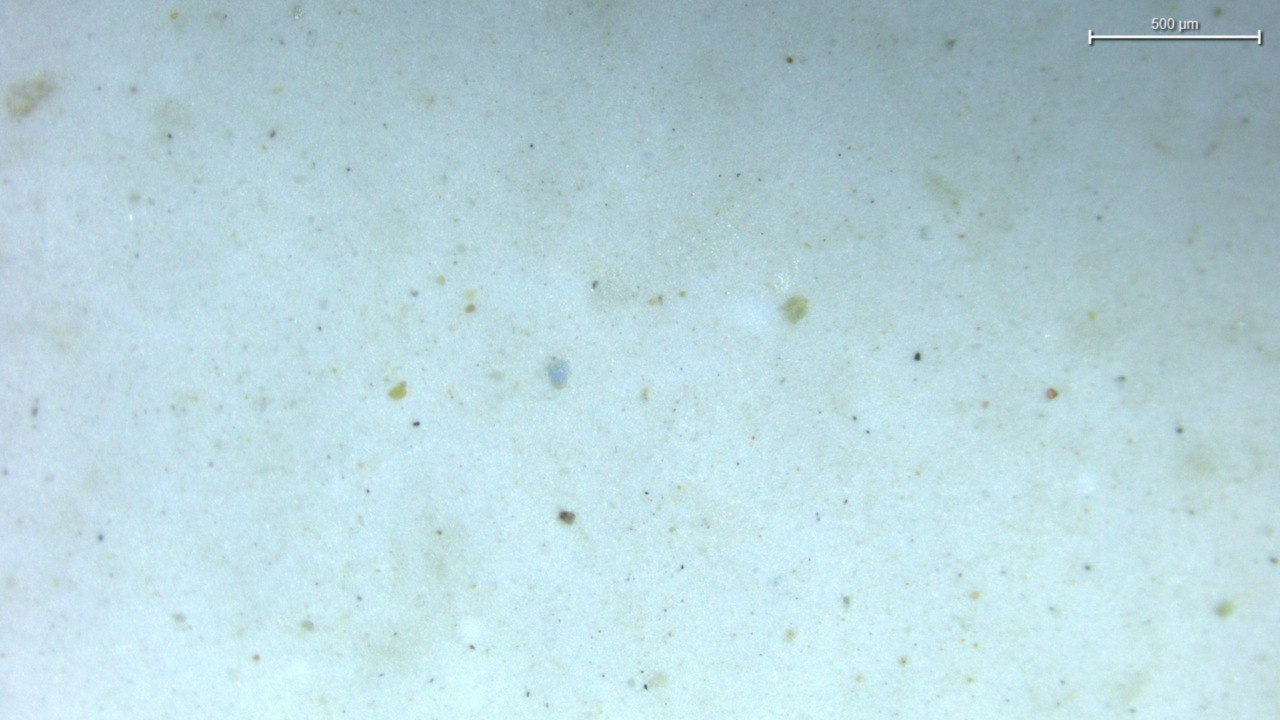microplastic_fragment: (546, 358, 570, 389)
